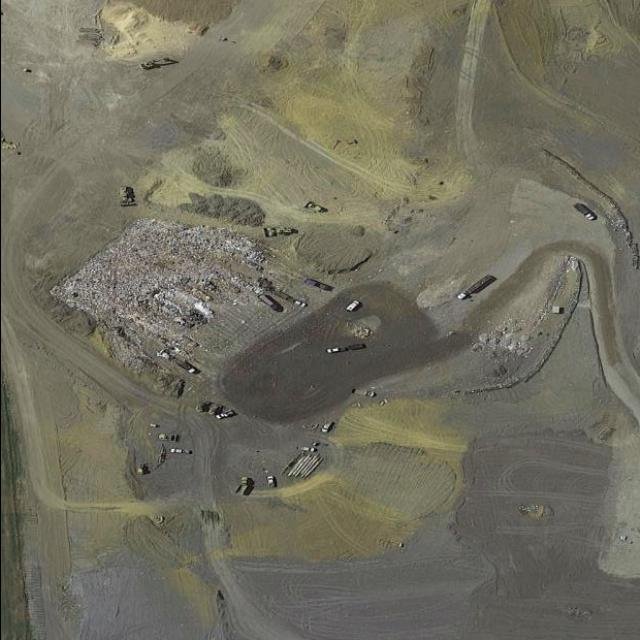dump_site: (44, 193, 299, 366)
